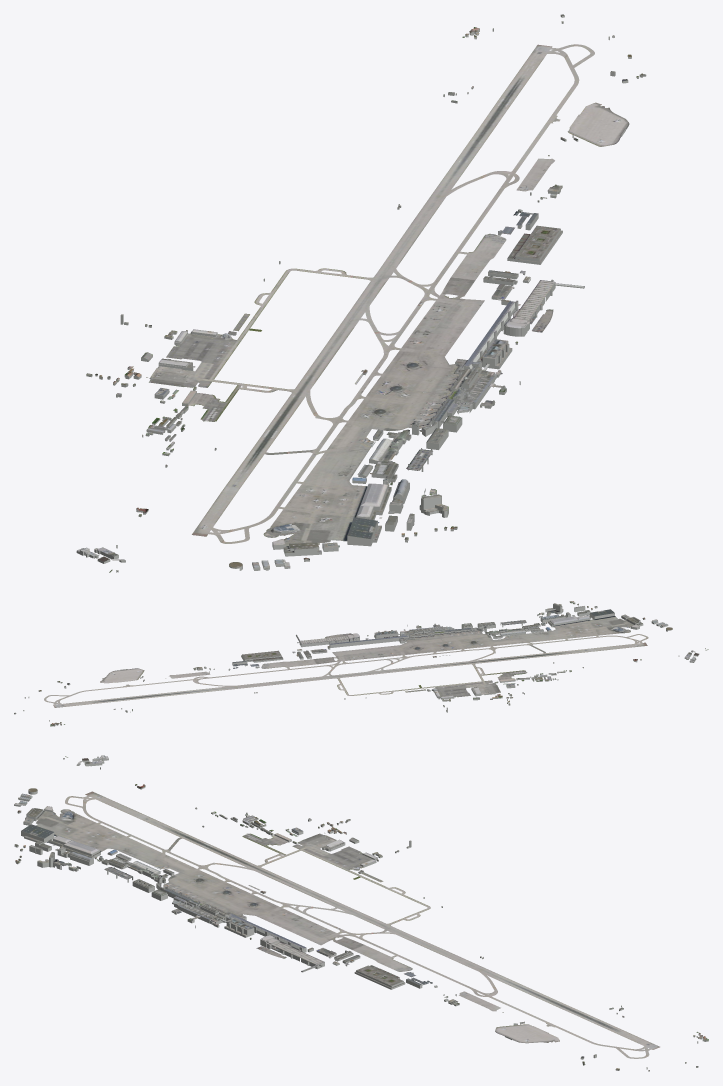
The model's file is LSGG_Airport.glb.
3 renders of one model, top to bottom at view 1: azimuth 30°, elevation 25°; view 2: azimuth 150°, elevation 25°; view 3: azimuth 270°, elevation 25°, orthographic. The views are drawn at different scales.
Visible parts, largest first — view 1: pavement_LSGG_pavement_4992_2240, pavement_LSGG_pavement_4993_2241, pavement_LSGG_pavement_4994_2242, pavement_LSGG_pavement_4994_2241, pavement_LSGG_pavement_4993_2242, pavement_LSGG_pavement_4995_2243, pavement_LSGG_pavement_4996_2244, pavement_LSGG_pavement_4993_2240, pavement_LSGG_pavement_4997_2244, pavement_LSGG_pavement_4995_2242, pavement_LSGG_pavement_4997_2245, building_4677b8871b3b5d2d (+4 smaller); view 2: pavement_LSGG_pavement_4992_2240, pavement_LSGG_pavement_4994_2242, pavement_LSGG_pavement_4993_2241, pavement_LSGG_pavement_4994_2241, pavement_LSGG_pavement_4993_2242, pavement_LSGG_pavement_4995_2243, pavement_LSGG_pavement_4996_2244, pavement_LSGG_pavement_4993_2240, pavement_LSGG_pavement_4997_2244, pavement_LSGG_pavement_4997_2245, pavement_LSGG_pavement_4995_2242, building_4677b8871b3b5d2d (+5 smaller); view 3: pavement_LSGG_pavement_4992_2240, pavement_LSGG_pavement_4994_2242, pavement_LSGG_pavement_4993_2241, pavement_LSGG_pavement_4994_2241, pavement_LSGG_pavement_4993_2242, pavement_LSGG_pavement_4995_2243, pavement_LSGG_pavement_4996_2244, pavement_LSGG_pavement_4993_2240, pavement_LSGG_pavement_4997_2244, pavement_LSGG_pavement_4995_2242, pavement_LSGG_pavement_4997_2245, building_4677b8871b3b5d2d (+3 smaller).
Part boxes in pixels (x1,y1,x2,y2): pavement_LSGG_pavement_4992_2240: (192,478,352,547); pavement_LSGG_pavement_4993_2241: (215,393,405,474); pavement_LSGG_pavement_4994_2242: (314,306,458,383); pavement_LSGG_pavement_4994_2241: (357,363,460,428); pavement_LSGG_pavement_4993_2242: (154,337,324,419); pavement_LSGG_pavement_4995_2243: (375,216,505,293); pavement_LSGG_pavement_4996_2244: (435,126,554,202); pavement_LSGG_pavement_4993_2240: (295,459,367,519); pavement_LSGG_pavement_4997_2244: (538,102,629,146); pavement_LSGG_pavement_4995_2242: (417,281,484,336); pavement_LSGG_pavement_4997_2245: (496,44,594,111); building_4677b8871b3b5d2d: (422,359,500,430); pavement_LSGG_pavement_4992_2240: (563,616,648,650); pavement_LSGG_pavement_4994_2242: (355,643,446,673); pavement_LSGG_pavement_4993_2241: (460,634,558,670); pavement_LSGG_pavement_4994_2241: (405,630,483,652); pavement_LSGG_pavement_4993_2242: (430,659,522,695); pavement_LSGG_pavement_4995_2243: (251,659,339,685); pavement_LSGG_pavement_4996_2244: (147,671,234,696); pavement_LSGG_pavement_4993_2240: (526,619,592,641); pavement_LSGG_pavement_4997_2244: (100,668,147,687); pavement_LSGG_pavement_4997_2245: (44,687,130,707); pavement_LSGG_pavement_4995_2242: (316,647,375,664); building_4677b8871b3b5d2d: (399,626,482,640); pavement_LSGG_pavement_4992_2240: (35,792,140,836); pavement_LSGG_pavement_4994_2242: (246,881,350,926); pavement_LSGG_pavement_4993_2241: (141,837,245,881); pavement_LSGG_pavement_4994_2241: (163,881,245,915); pavement_LSGG_pavement_4993_2242: (246,837,350,881); pavement_LSGG_pavement_4995_2243: (351,926,455,971); pavement_LSGG_pavement_4996_2244: (456,971,561,1016); pavement_LSGG_pavement_4993_2240: (62,836,140,860); pavement_LSGG_pavement_4997_2244: (495,1016,561,1043); pavement_LSGG_pavement_4995_2242: (279,926,350,949); pavement_LSGG_pavement_4997_2245: (561,1016,659,1058); building_4677b8871b3b5d2d: (156,883,245,925).
Size of the model in its own units: 3488 by 65.47 by 3307.
Materials: 3 (2 with a texture image).
